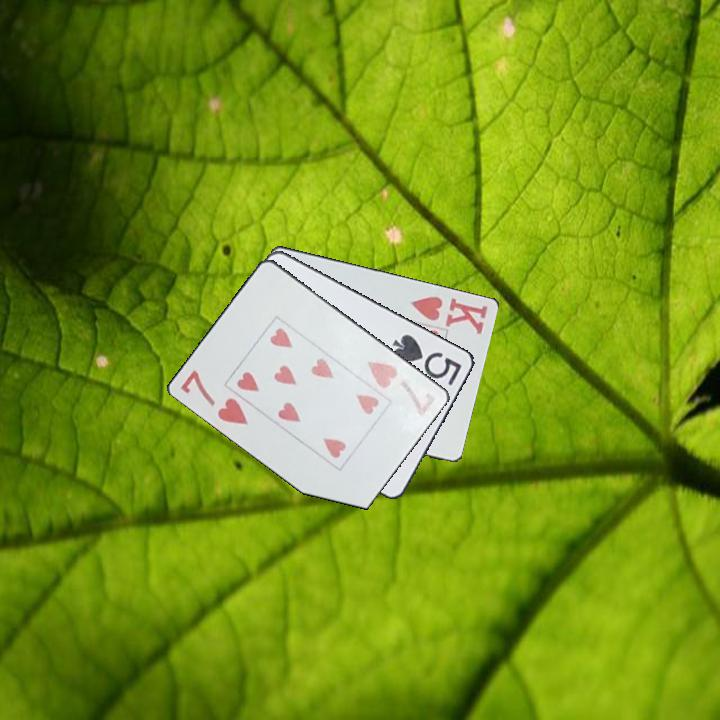5s: (389, 330, 465, 388)
7h: (364, 357, 439, 420), (177, 366, 252, 428)
Kh: (406, 292, 491, 337)
